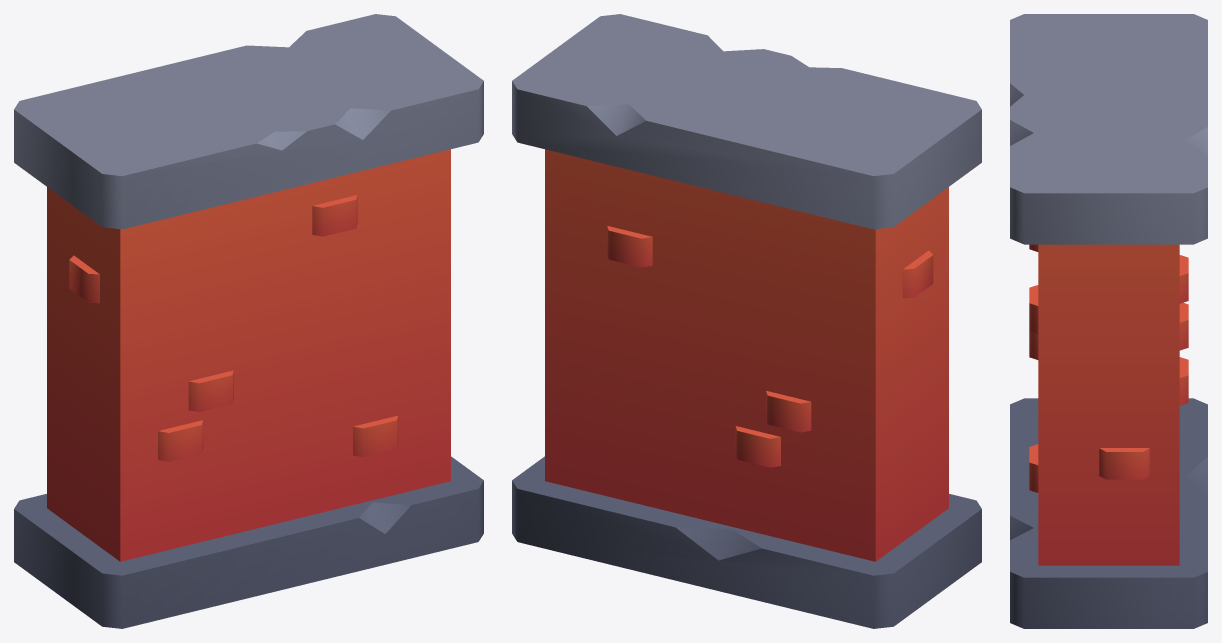
The model's file is wall-high.glb.
3 views of the same model, side by side, from view 1: azimuth 30°, elevation 25°; view 2: azimuth 150°, elevation 25°; view 3: azimuth 270°, elevation 25° (orthographic). The views are drawn at different scales.
Parts seen in each view (by area): view 1: wall-high; view 2: wall-high; view 3: wall-high.
Part boxes in pixels (x1,y1,x2,y2): wall-high: (14,14,483,628); wall-high: (512,14,981,628); wall-high: (1010,14,1207,628).
Bounding box in the file's own units: 1.5 × 1.7 × 0.7.
Materials: 1 (1 with a texture image).
